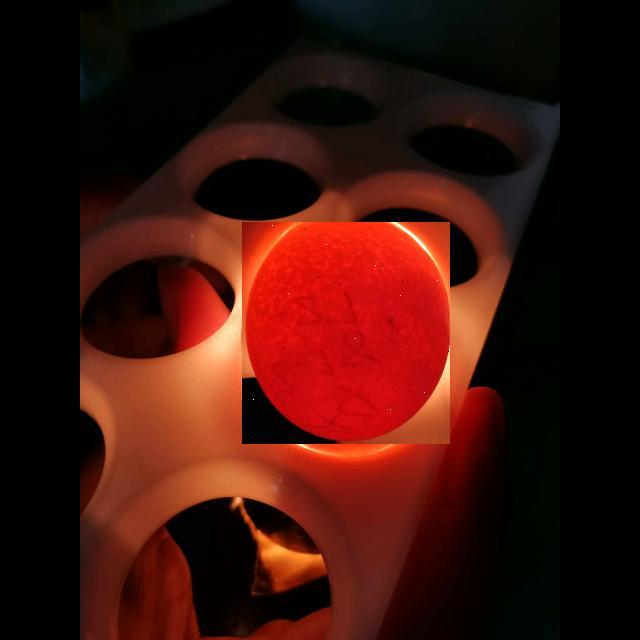Infertile: (242, 222, 450, 444)
